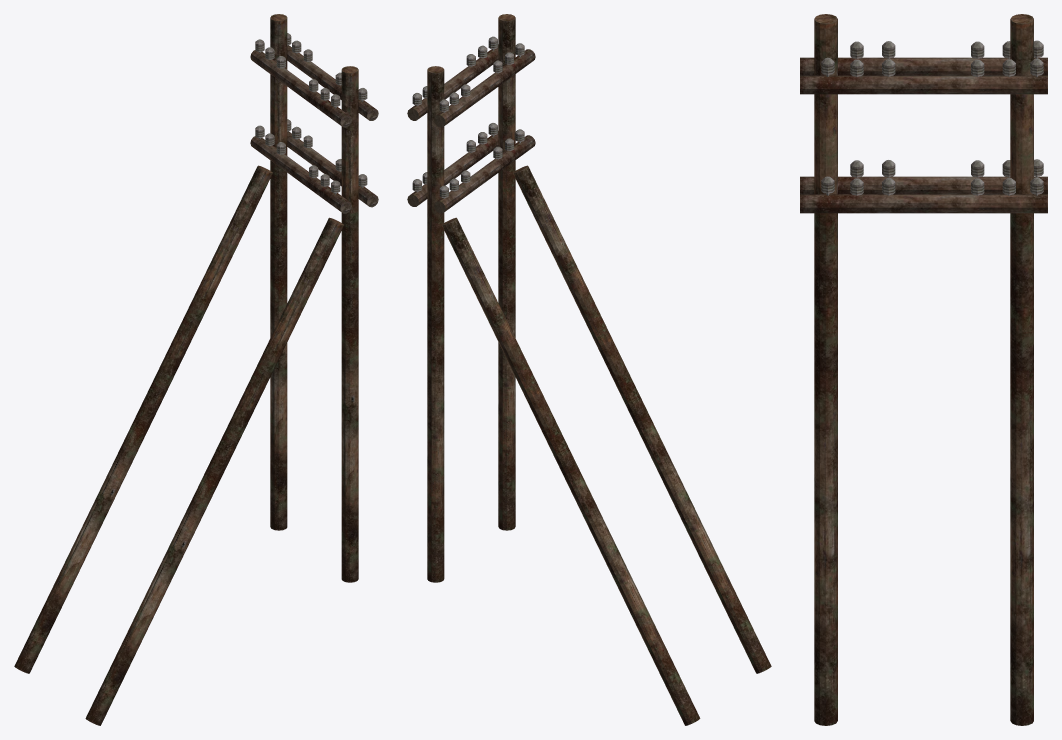
Rendered from lampOld_05.glb.
3 renders of one model, left to right at view 1: azimuth 30°, elevation 25°; view 2: azimuth 150°, elevation 25°; view 3: azimuth 270°, elevation 25°, orthographic. The views are drawn at different scales.
Parts seen in each view (by area): view 1: geometry_0; view 2: geometry_0; view 3: geometry_0.
Boxes of the visible parts, x1,y1,x2,y2 form: geometry_0: (14,14,378,725); geometry_0: (407,14,771,725); geometry_0: (800,14,1047,725).
Bounding box in the file's own units: 3.81 × 7.65 × 2.1.
Materials: 1 (1 with a texture image).
